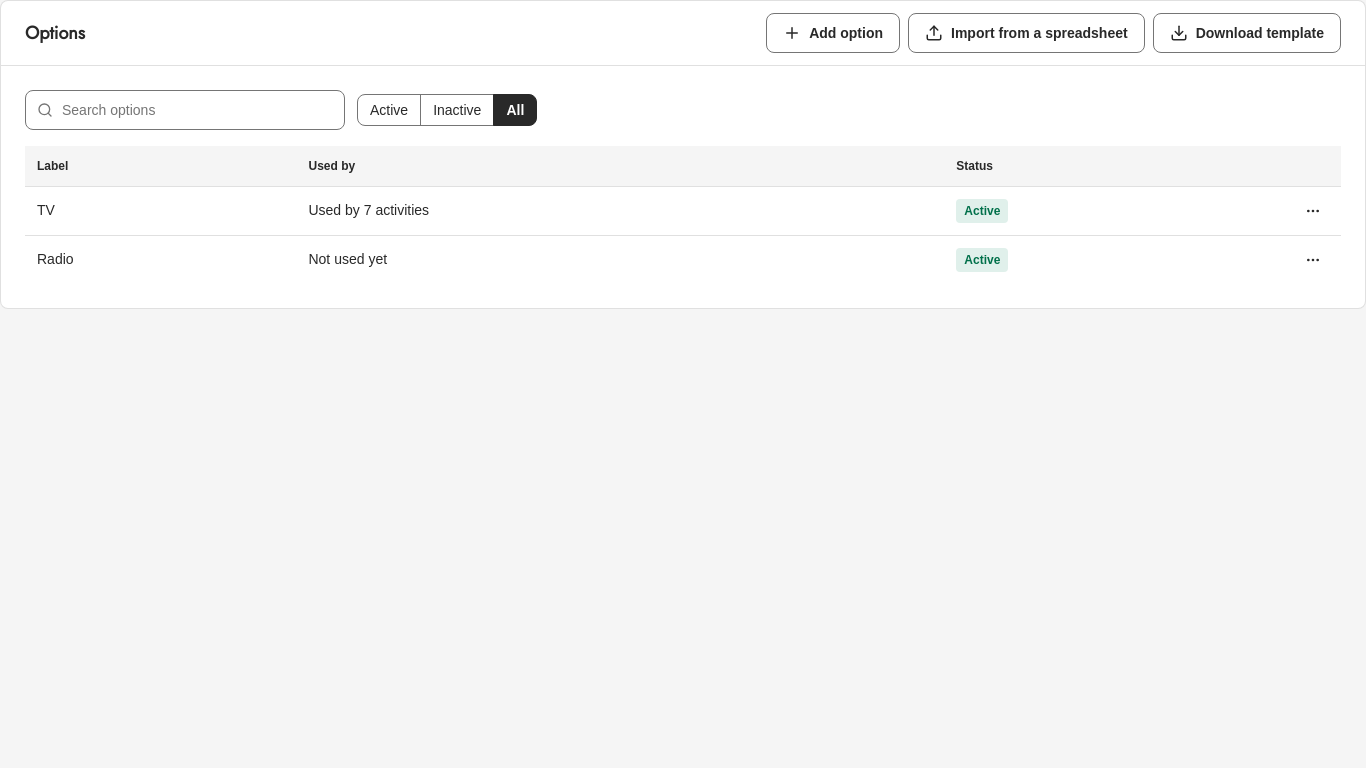
Test: OptionsCard (FR-018, FR-020, SC-007) › deletes an unused option and offers Undo
Click the button named "Actions for Radio": x=1313, y=260 [1297,244,1329,276]
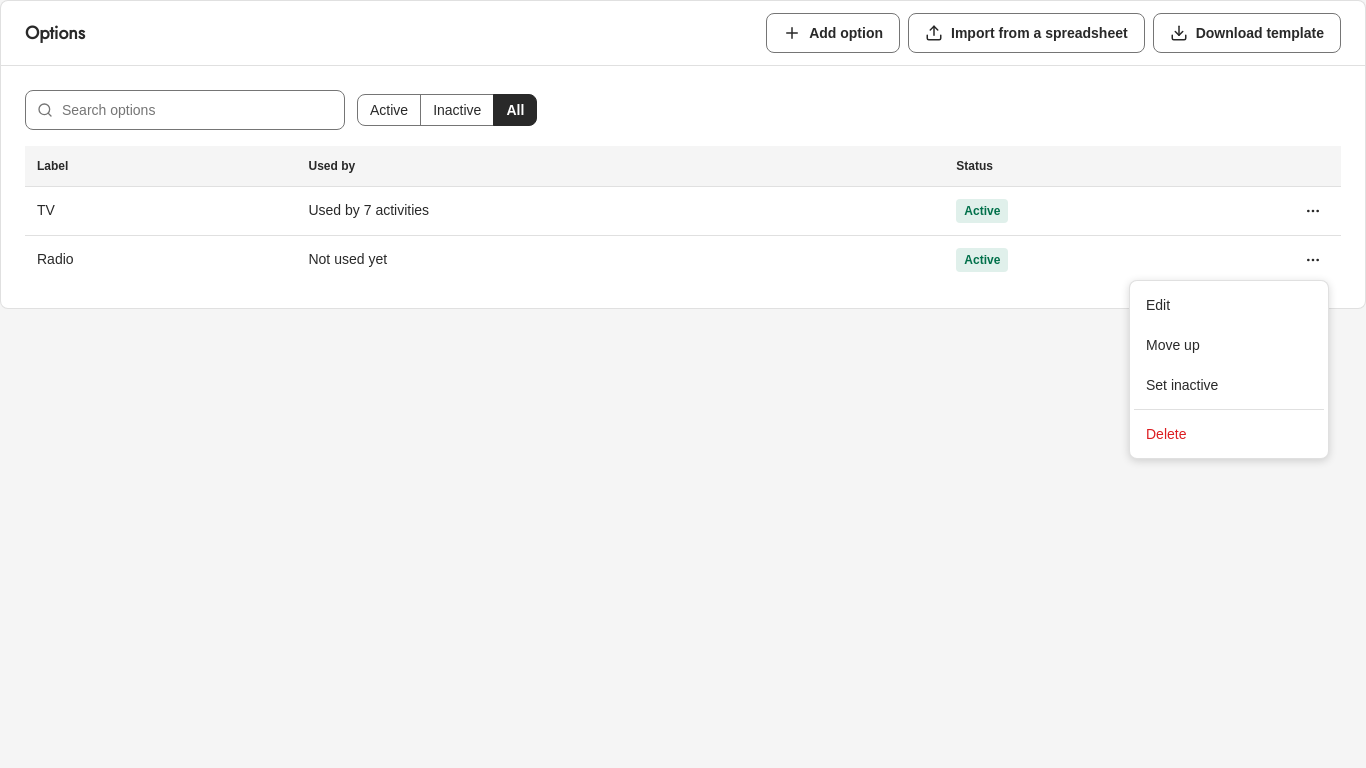
Click the menu item "Delete": x=1166, y=434 [1146,426,1186,442]
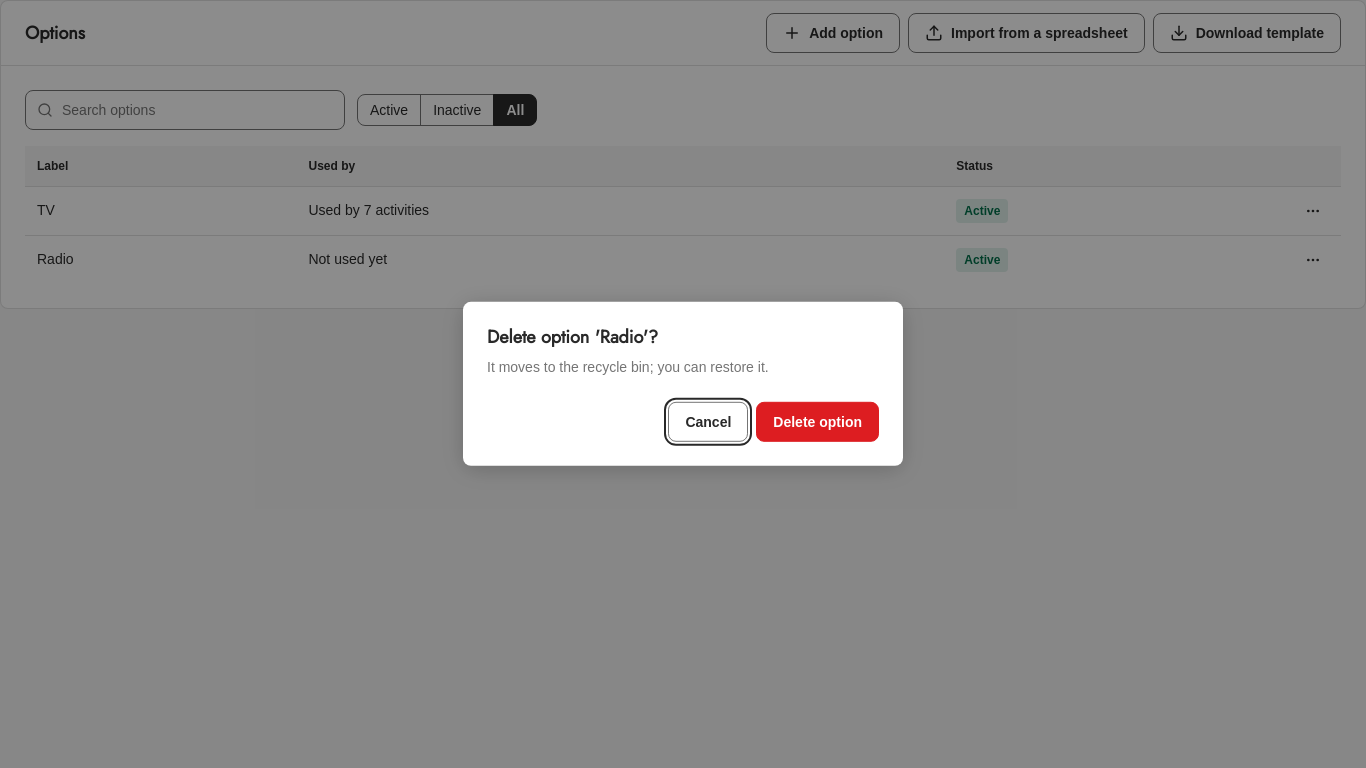
Click the button "Delete option": x=818, y=422 [756,402,879,442]
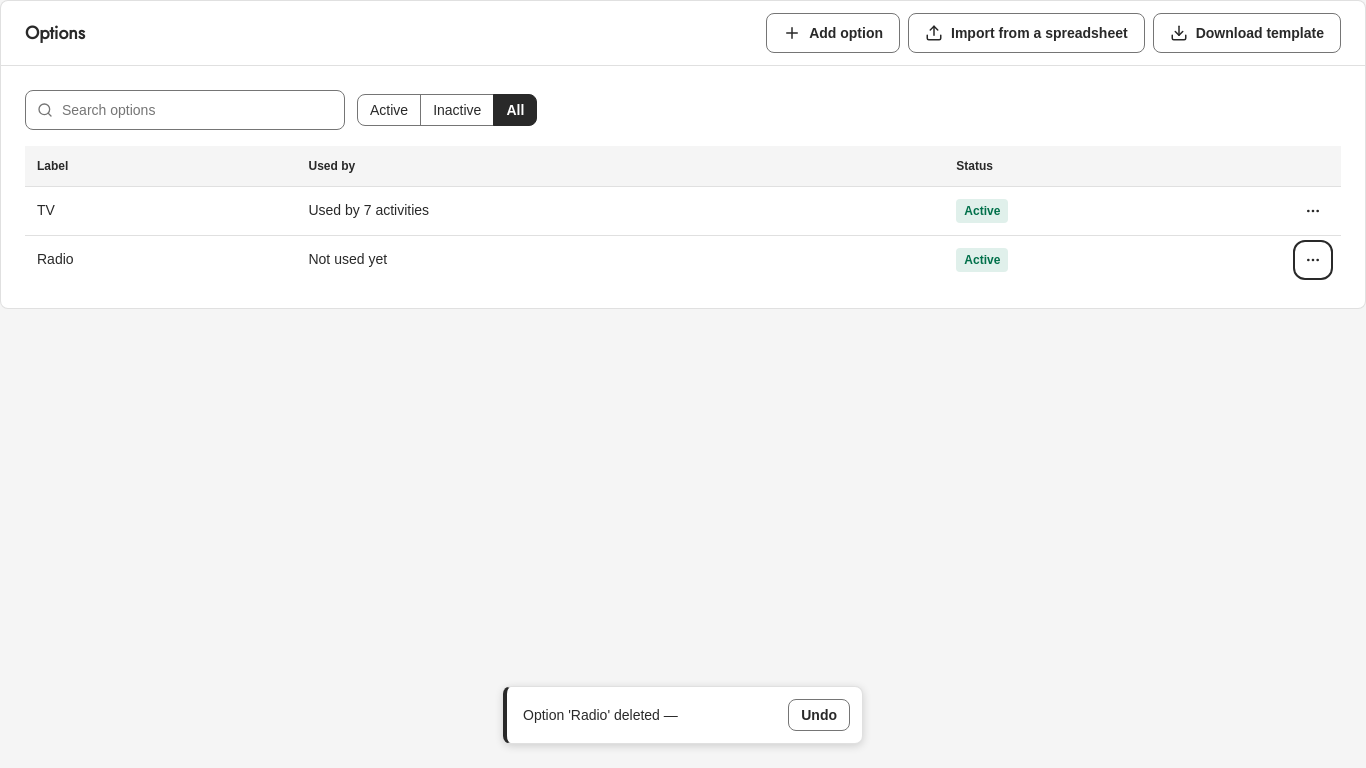
Now the button "Undo" is shown, box [788,699,850,731]
